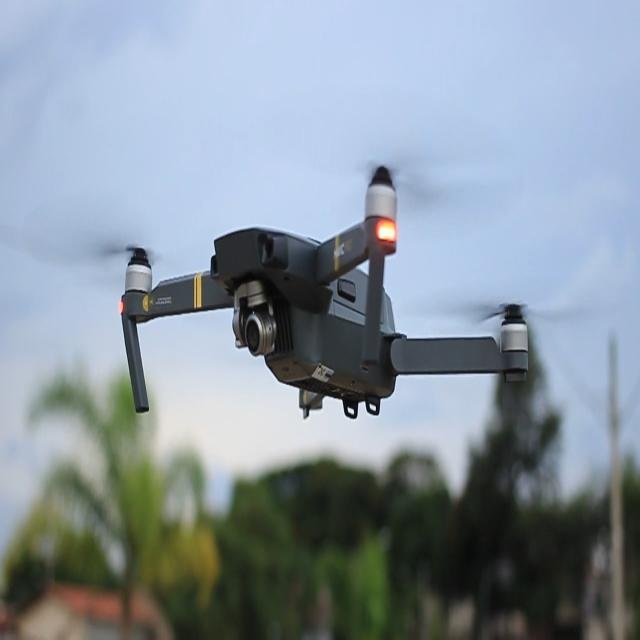drone: (8, 161, 598, 420)
